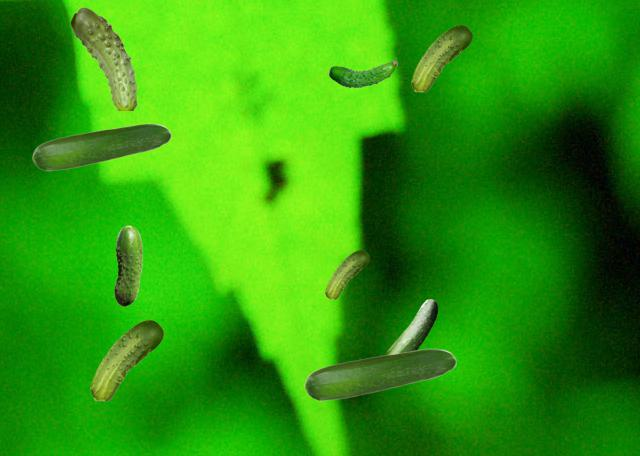cucumber: (304, 348, 455, 400), (70, 7, 137, 109), (32, 123, 170, 170), (90, 320, 162, 400), (411, 25, 471, 91), (385, 299, 436, 353), (114, 225, 142, 305), (325, 250, 368, 298), (328, 57, 396, 87)
